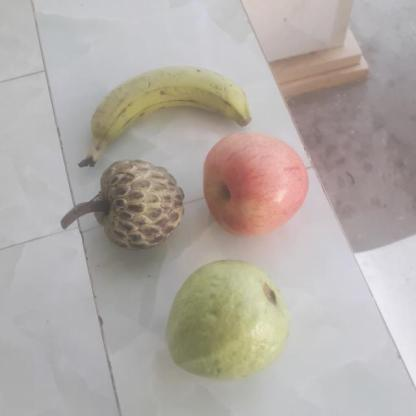annona: (96, 160, 188, 250)
apple: (200, 131, 311, 234)
banana: (84, 66, 263, 167)
guava: (169, 260, 294, 379)
